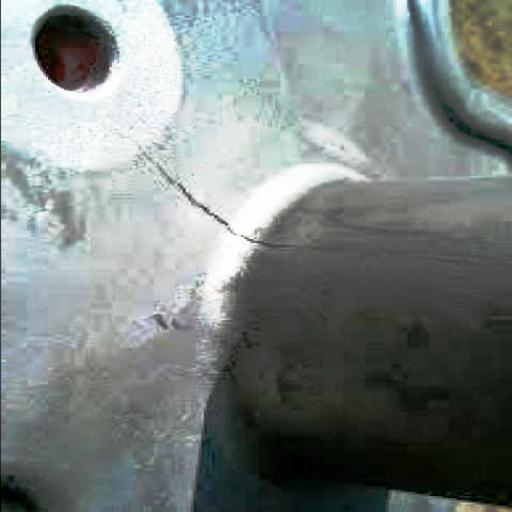crack: (129, 130, 319, 268)
